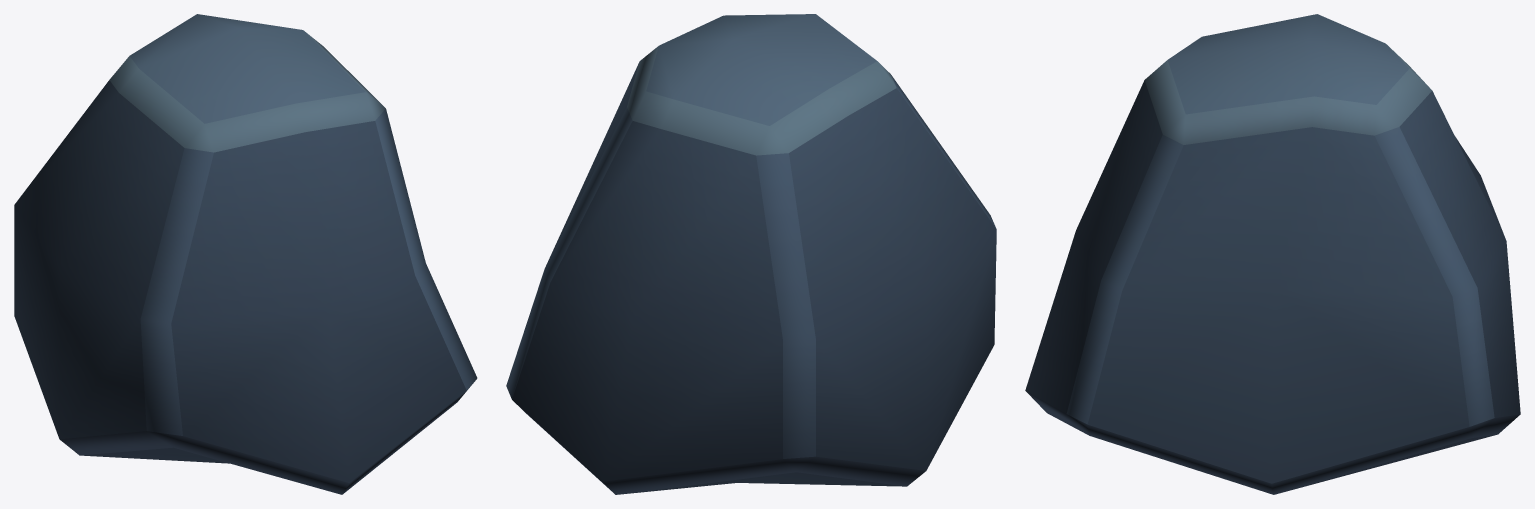
Rendered from rock_04.fbx.
The picture shows the model from 3 angles, left to right: view 1: azimuth 30°, elevation 25°; view 2: azimuth 150°, elevation 25°; view 3: azimuth 270°, elevation 25°; orthographic projection. The views are drawn at different scales.
Parts seen in each view (by area): view 1: rock_04; view 2: rock_04; view 3: rock_04.
Boxes of the visible parts, x1,y1,x2,y2 form: rock_04: (14, 14, 477, 494); rock_04: (506, 14, 996, 494); rock_04: (1025, 14, 1520, 494).
Bounding box in the file's own units: 82.62 × 107 × 107.
1 material, 1 textured.
